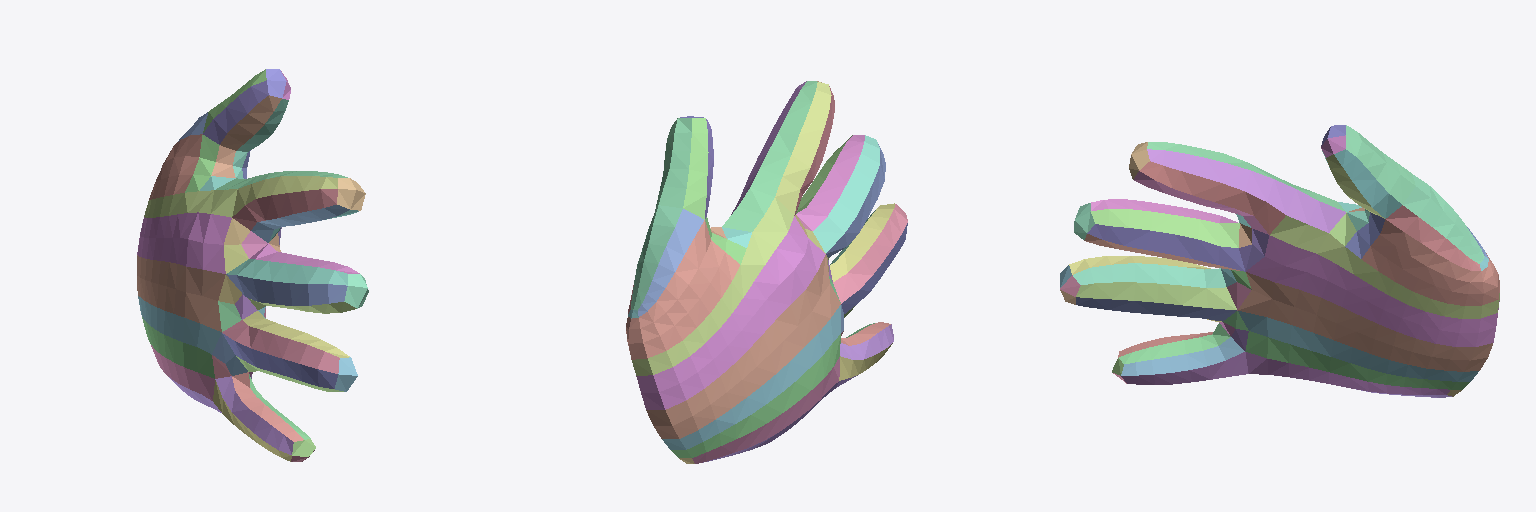
File: hand2_patch_color.obj
The picture shows the model from 3 angles: view 1: azimuth 30°, elevation 25°; view 2: azimuth 150°, elevation 25°; view 3: azimuth 270°, elevation 25°; orthographic projection.
Size of the model in its own units: 10.46 by 23.71 by 31.15.